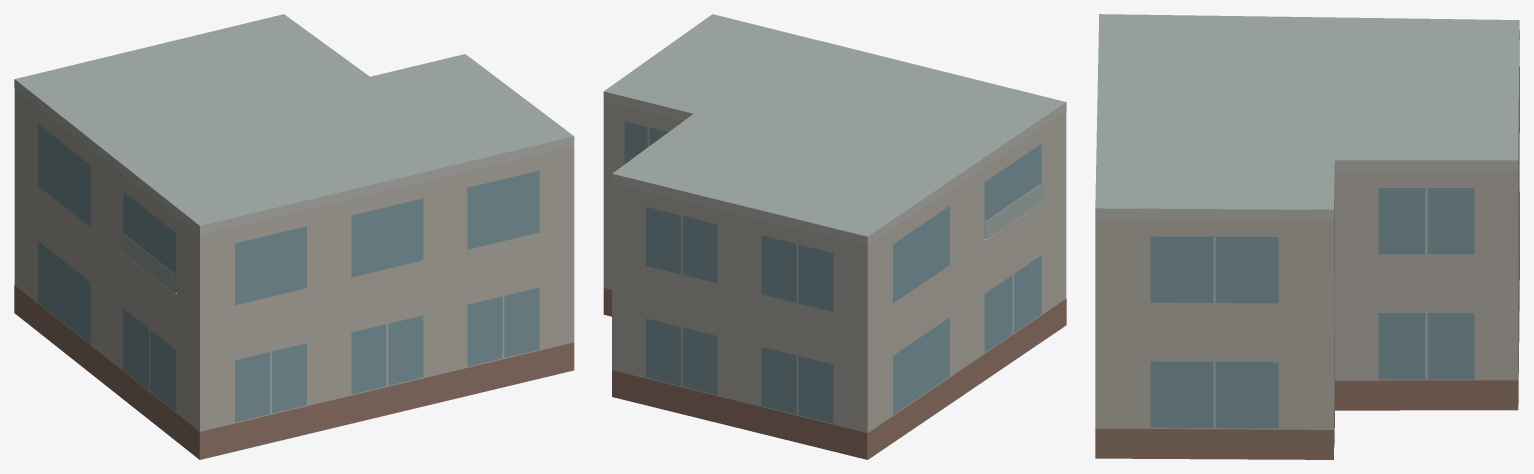
Rendered from survey-upis-32605419.glb.
3 views of the same model, side by side, from view 1: azimuth 30°, elevation 25°; view 2: azimuth 150°, elevation 25°; view 3: azimuth 270°, elevation 25° (orthographic). The views are drawn at different scales.
Visible parts, largest first — view 1: survey-upis-32605419.tmp; view 2: survey-upis-32605419.tmp; view 3: survey-upis-32605419.tmp.
Boxes of the visible parts, left/top/right/bottom form: survey-upis-32605419.tmp: left=14, top=14, right=574, bottom=459; survey-upis-32605419.tmp: left=603, top=14, right=1066, bottom=459; survey-upis-32605419.tmp: left=1095, top=14, right=1519, bottom=459.
Bounding box in the file's own units: 10.25 × 6.1 × 9.39.
